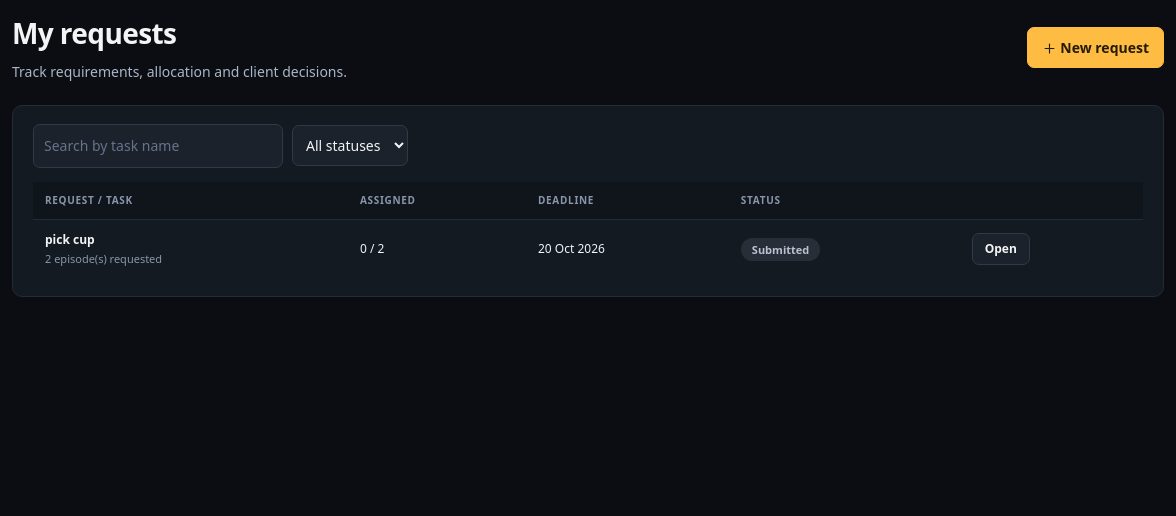
it: opens request details when Open is clicked
Click the link "Open": (1001, 249) [972,233,1030,265]
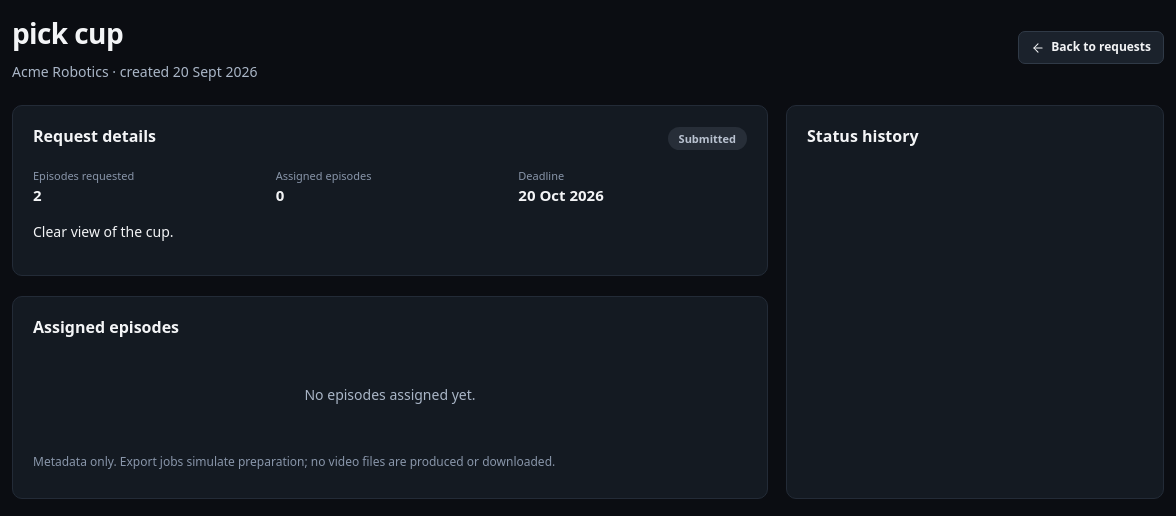
Now the heading "Request details" is shown, box [33,124,156,149]
